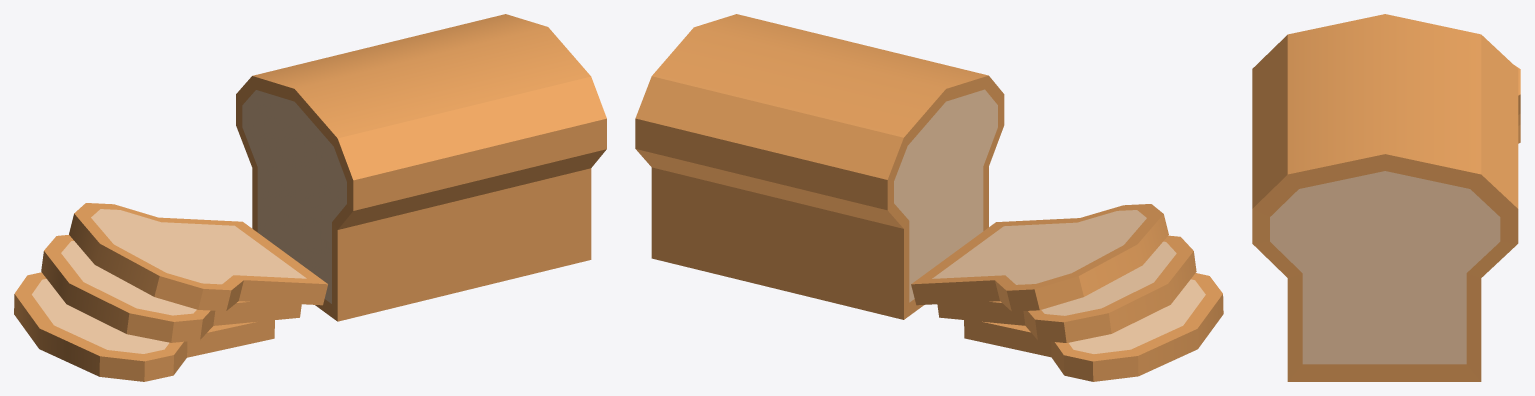
File: f09_bread.FBX
The picture shows the model from 3 angles, left to right: view 1: azimuth 30°, elevation 25°; view 2: azimuth 150°, elevation 25°; view 3: azimuth 270°, elevation 25°; orthographic projection. The views are drawn at different scales.
Visible parts, largest first — view 1: bread; view 2: bread; view 3: bread.
Boxes of the visible parts, left/top/right/bottom form: bread: left=14, top=14, right=606, bottom=381; bread: left=635, top=14, right=1223, bottom=381; bread: left=1252, top=14, right=1520, bottom=381.
Size of the model in its own units: 107 by 41 by 43.22.
